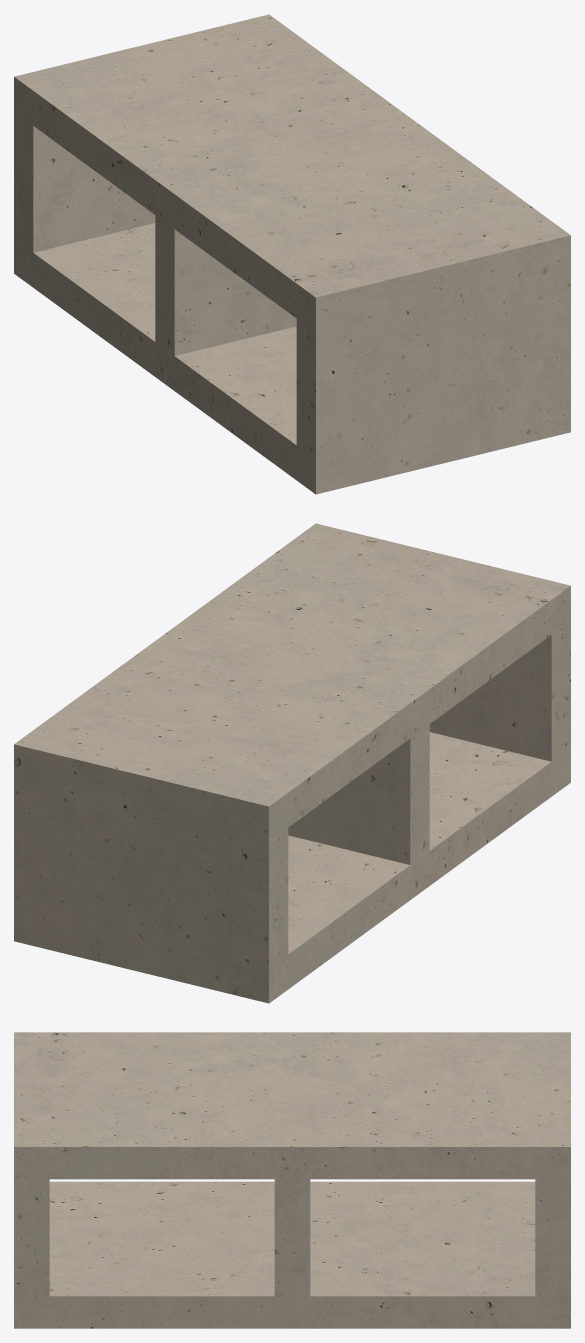
Rendered from cinder_block.dae.
The picture shows the model from 3 angles, top to bottom: view 1: azimuth 30°, elevation 25°; view 2: azimuth 150°, elevation 25°; view 3: azimuth 270°, elevation 25°; orthographic projection. The views are drawn at different scales.
Visible parts, largest first — view 1: SketchUp_002; view 2: SketchUp_002; view 3: SketchUp_002.
Part boxes in pixels (x1=…): SketchUp_002: x1=14, y1=14, x2=570, y2=494; SketchUp_002: x1=14, y1=523, x2=570, y2=1003; SketchUp_002: x1=14, y1=1032, x2=570, y2=1328.
Size of the model in its own units: 0.1937 by 0.3969 by 0.1429.
